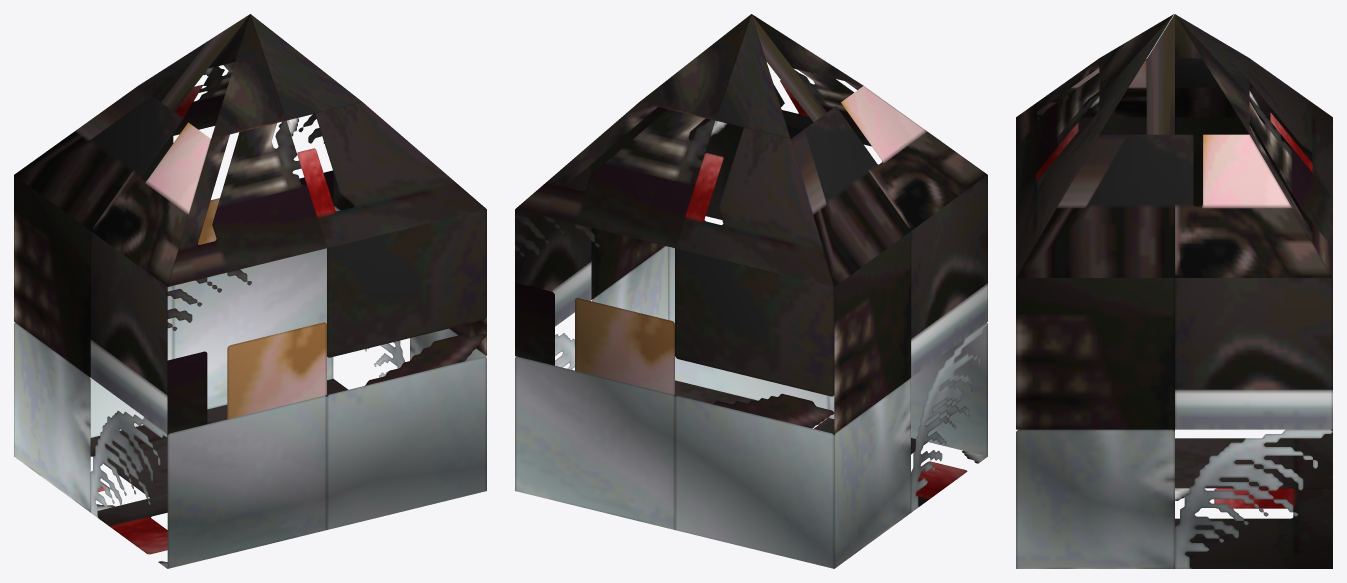
3 views of the same model, side by side, from view 1: azimuth 30°, elevation 25°; view 2: azimuth 150°, elevation 25°; view 3: azimuth 270°, elevation 25° (orthographic). The views are drawn at different scales.
Parts seen in each view (by area): view 1: T1L4M008_24; view 2: T1L4M008_24; view 3: T1L4M008_24.
Part boxes in pixels (x1=…): T1L4M008_24: x1=14, y1=14, x2=486, y2=568; T1L4M008_24: x1=515, y1=14, x2=987, y2=568; T1L4M008_24: x1=1016, y1=14, x2=1332, y2=568.
Bounding box in the file's own units: 0.4424 × 0.6084 × 0.3682.
